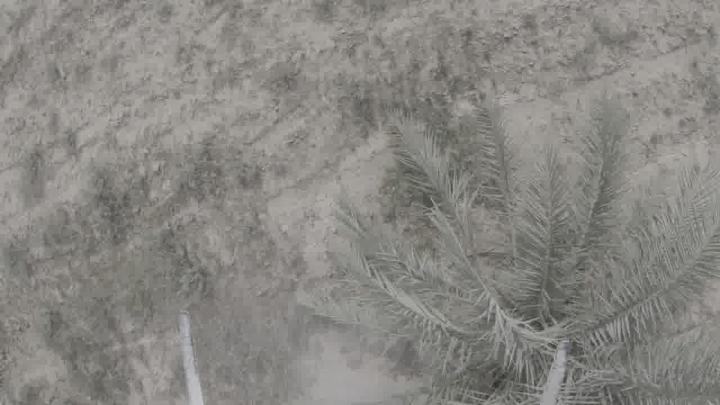Date-Palm-Crown: (394, 166, 680, 404)
